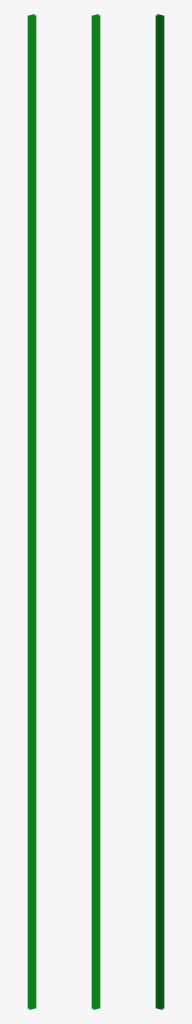
The model's file is himawari_kuki.fbx.
3 views of the same model, side by side, from view 1: azimuth 30°, elevation 25°; view 2: azimuth 210°, elevation 25°; view 3: azimuth 330°, elevation 25° (orthographic).
Parts seen in each view (by area): view 1: kuki; view 2: kuki; view 3: kuki.
Boxes of the visible parts, bbox=[...] form: kuki: bbox=[27, 14, 36, 1009]; kuki: bbox=[91, 14, 100, 1009]; kuki: bbox=[155, 14, 164, 1009].
Size of the model in its own units: 10.01 by 1375 by 4.
Materials: 1 (1 with a texture image).
